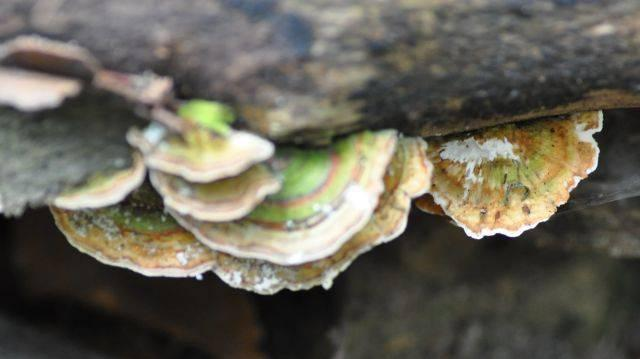Non-edible Mushroom: (5, 28, 435, 297), (414, 107, 604, 240)
